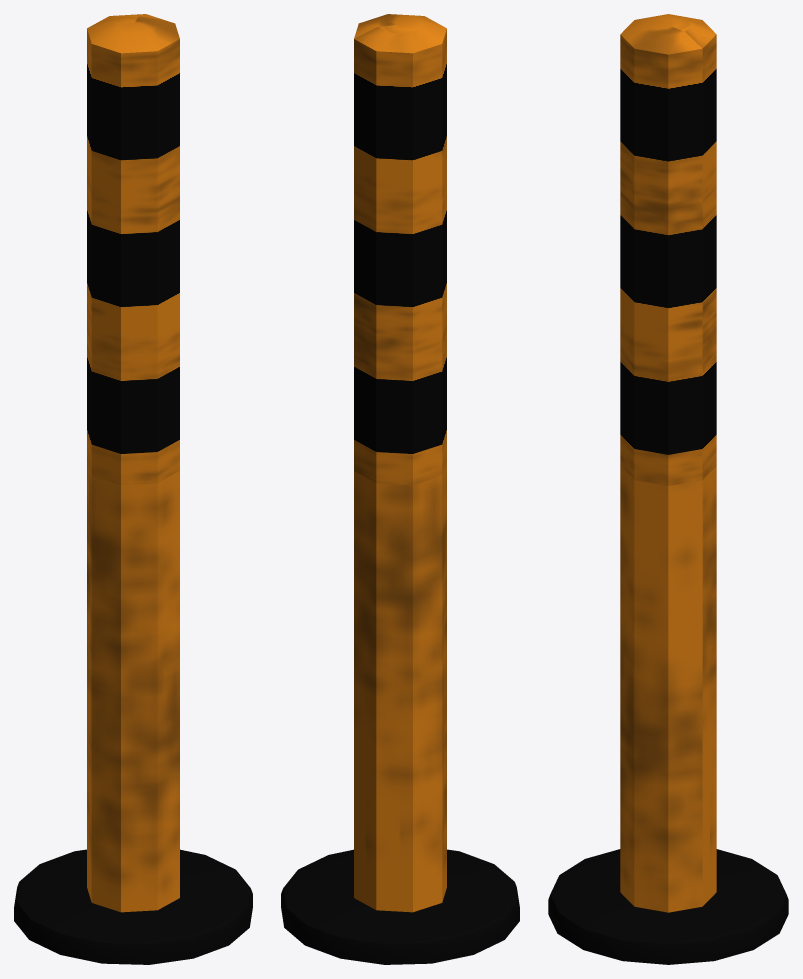
File: Restrictive_column.FBX
The picture shows the model from 3 angles, left to right: view 1: azimuth 30°, elevation 25°; view 2: azimuth 150°, elevation 25°; view 3: azimuth 270°, elevation 25°; orthographic projection.
Visible parts, largest first — view 1: Restrictive_column; view 2: Restrictive_column; view 3: Restrictive_column.
Part boxes in pixels (x1,y1,x2,y2): Restrictive_column: (14,14,252,964); Restrictive_column: (281,14,519,964); Restrictive_column: (548,14,788,964).
Bounding box in the file's own units: 0.2 × 0.8155 × 0.2.
